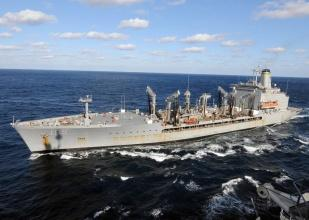warship: (12, 66, 296, 154)
